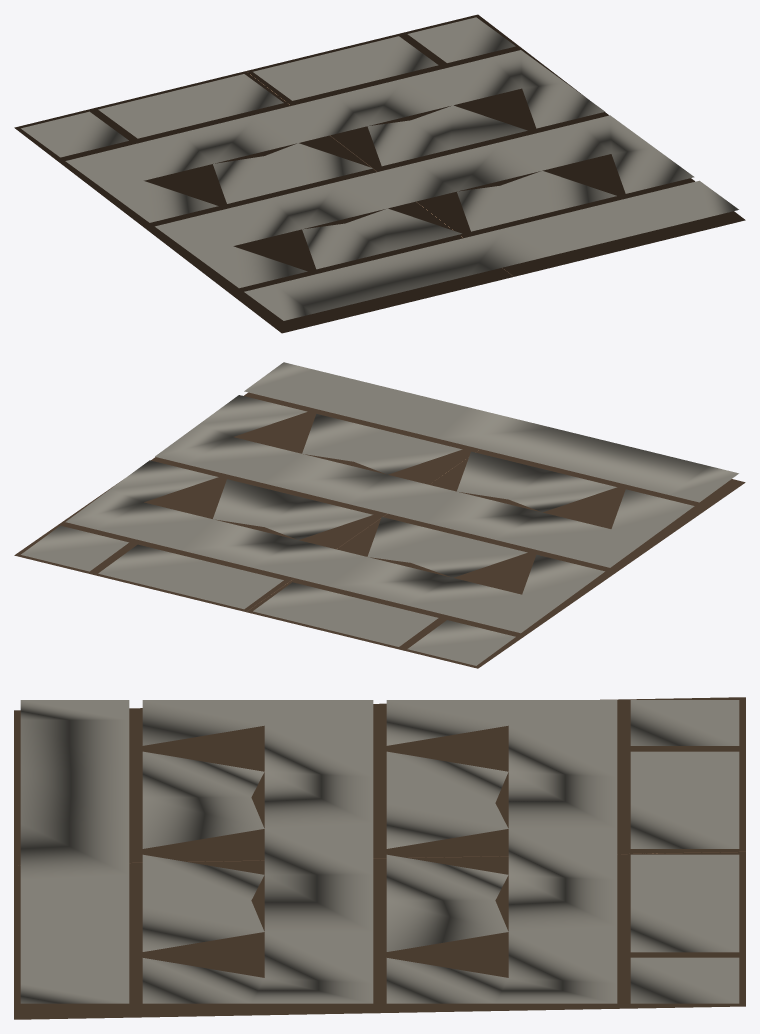
The model's file is road_cobble_tile_lod1.glb.
3 views of the same model, one above another, from view 1: azimuth 30°, elevation 25°; view 2: azimuth 150°, elevation 25°; view 3: azimuth 270°, elevation 25° (orthographic). The views are drawn at different scales.
Bounding box in the file's own units: 2 × 0.04 × 2.
